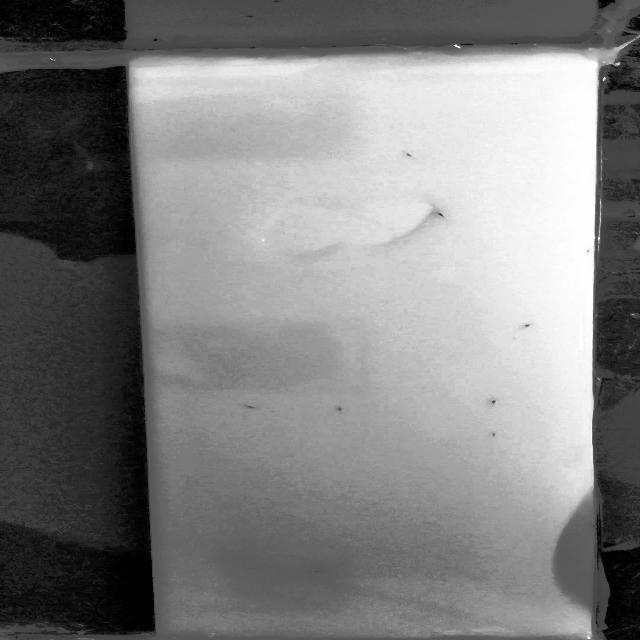shrimp: (507, 311, 547, 336), (298, 568, 342, 582), (233, 396, 262, 416), (478, 396, 514, 412), (322, 404, 348, 418), (432, 210, 453, 224)
